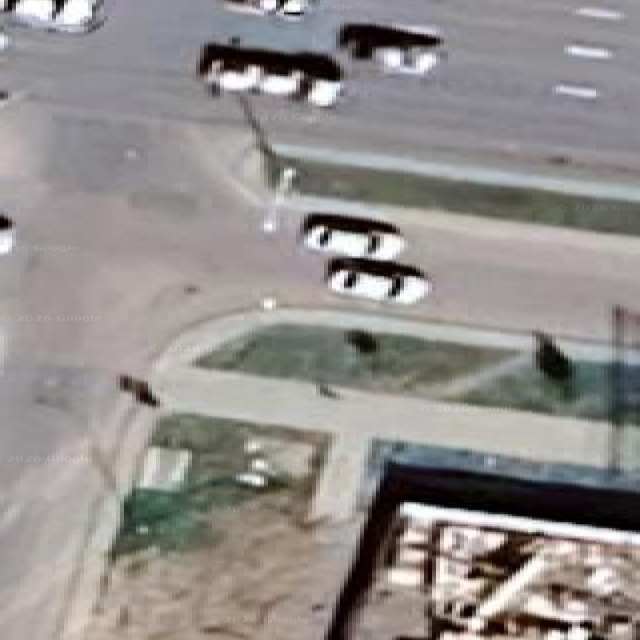car: (198, 43, 342, 106), (338, 23, 441, 75), (326, 257, 430, 304), (300, 213, 404, 259), (0, 0, 104, 33), (223, 0, 307, 18), (0, 213, 15, 254)
